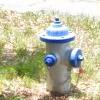a fire hydrant: (35, 17, 86, 92)
